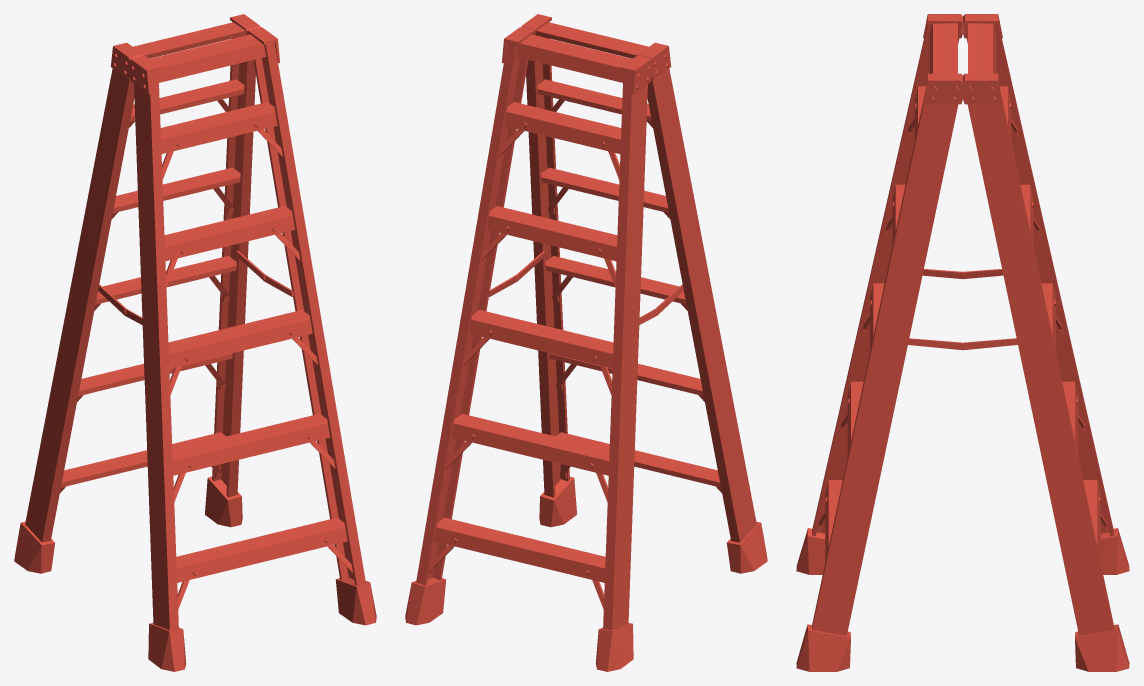
The model's file is SM_Ladder_Folding_Movie.fbx.
The picture shows the model from 3 angles, left to right: view 1: azimuth 30°, elevation 25°; view 2: azimuth 150°, elevation 25°; view 3: azimuth 270°, elevation 25°; orthographic projection. The views are drawn at different scales.
Parts seen in each view (by area): view 1: SM_Ladder_Folding_Movie; view 2: SM_Ladder_Folding_Movie; view 3: SM_Ladder_Folding_Movie.
Part boxes in pixels (x1,y1,x2,y2): SM_Ladder_Folding_Movie: [14, 14, 376, 671]; SM_Ladder_Folding_Movie: [405, 14, 767, 671]; SM_Ladder_Folding_Movie: [796, 14, 1129, 671].
Bounding box in the file's own units: 89.52 × 69.68 × 169.
